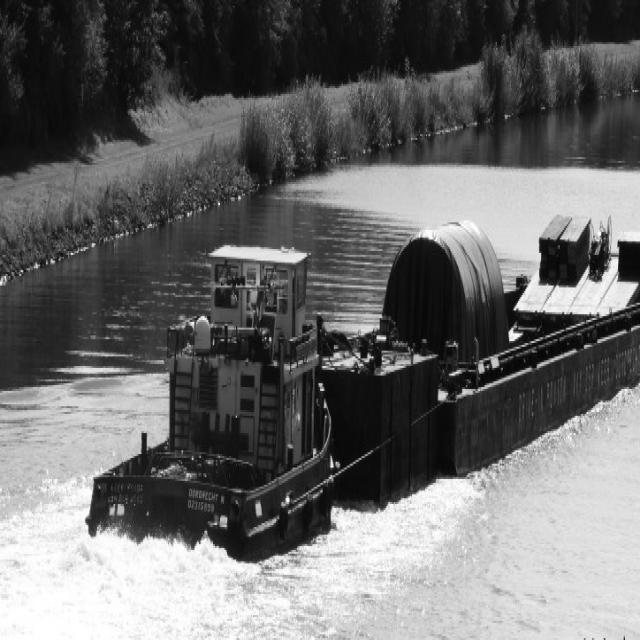tugboat: (80, 235, 341, 583)
